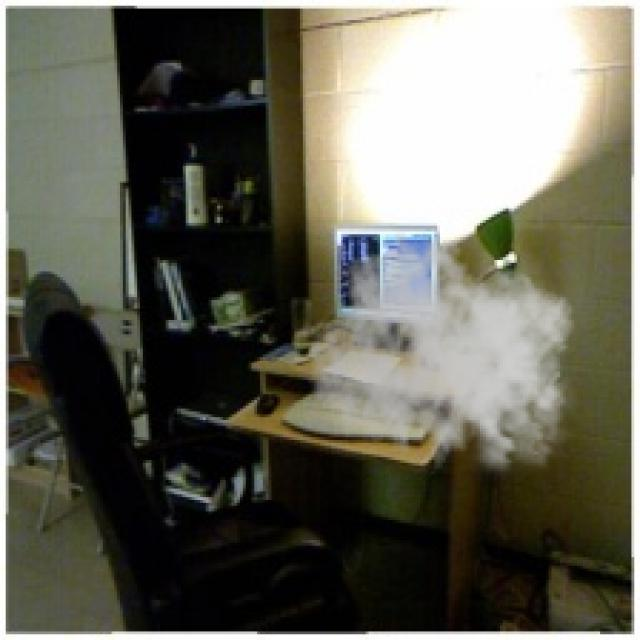smoke: (308, 231, 583, 486)
